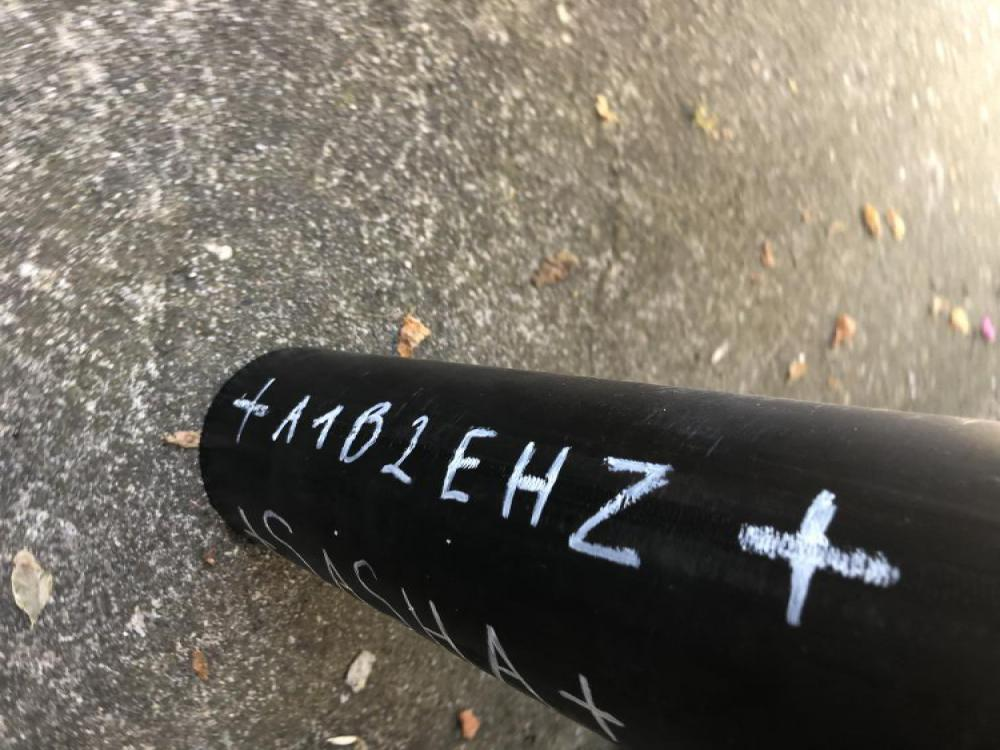+: (656, 74, 837, 204), (908, 277, 988, 331), (494, 545, 605, 582)
1: (514, 512, 601, 552), (523, 487, 605, 522)
2: (554, 426, 650, 469)
B: (534, 456, 621, 500)
E: (570, 370, 671, 423)
G: (583, 316, 701, 377)
Z: (609, 242, 759, 328)
